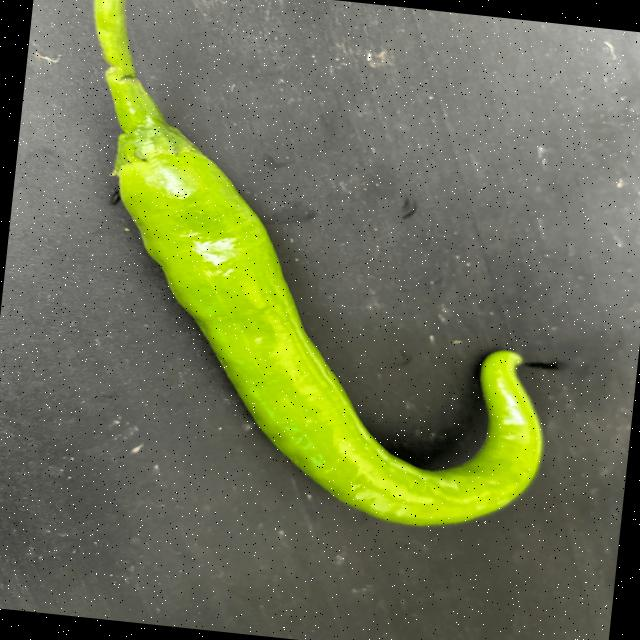chili: (112, 123, 541, 527)
